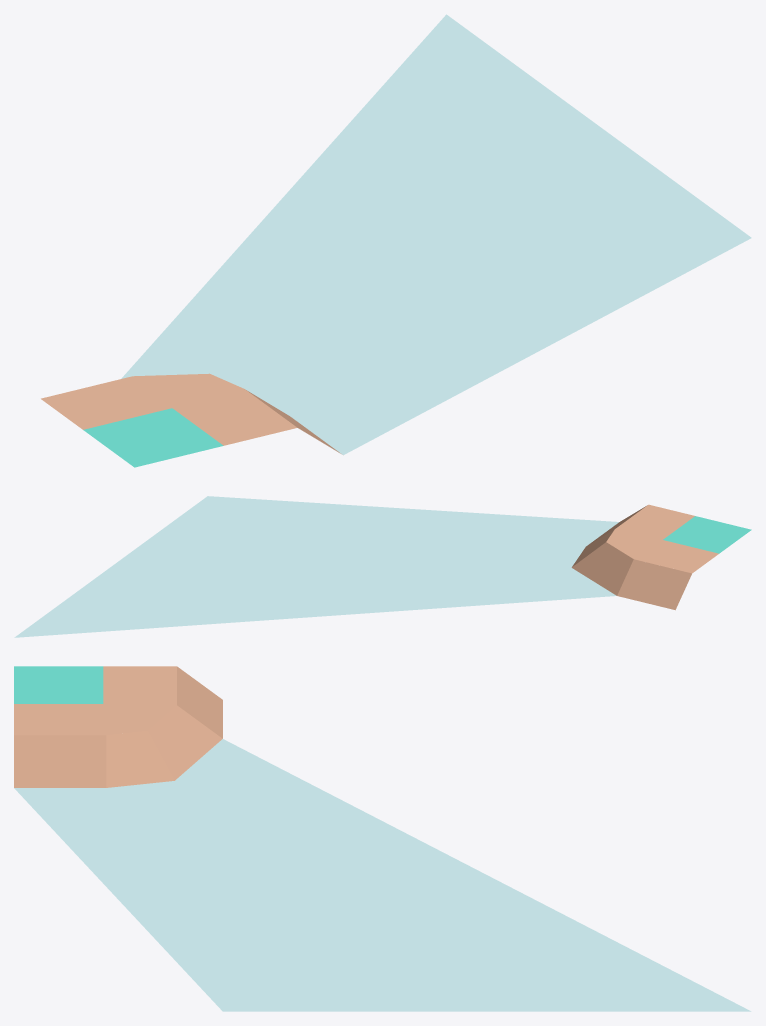
File: ground_riverCornerSmall.glb
3 views of the same model, one above another, from view 1: azimuth 30°, elevation 25°; view 2: azimuth 150°, elevation 25°; view 3: azimuth 270°, elevation 25° (orthographic). The views are drawn at different scales.
Parts seen in each view (by area): view 1: ground_riverCornerSmall; view 2: ground_riverCornerSmall; view 3: ground_riverCornerSmall.
Boxes of the visible parts, bbox=[...] form: ground_riverCornerSmall: bbox=[41, 14, 751, 467]; ground_riverCornerSmall: bbox=[14, 496, 751, 637]; ground_riverCornerSmall: bbox=[14, 666, 751, 1011].
Bounding box in the file's own units: 1 × 0.0501 × 1.
